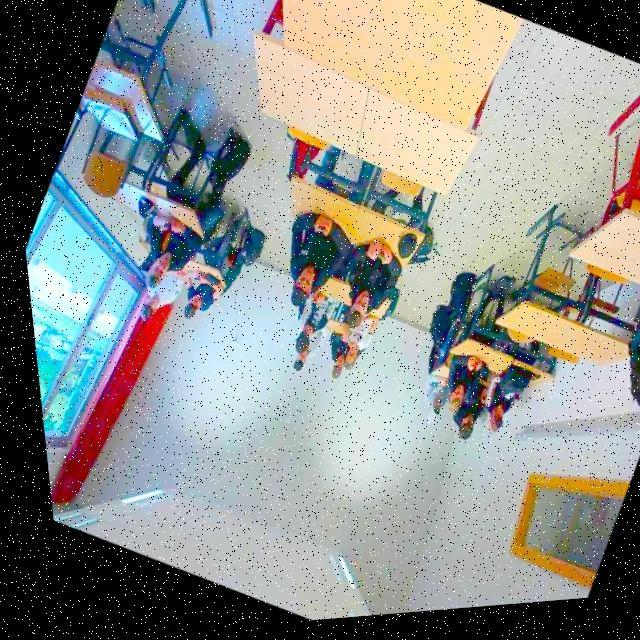phone_use: (307, 239, 399, 358), (290, 212, 351, 313), (138, 195, 201, 285), (428, 355, 488, 436), (155, 259, 223, 316), (329, 312, 378, 376), (487, 365, 530, 429), (293, 288, 327, 368), (329, 332, 359, 376), (292, 321, 315, 369), (453, 400, 480, 437), (628, 308, 638, 403), (426, 373, 446, 412)
